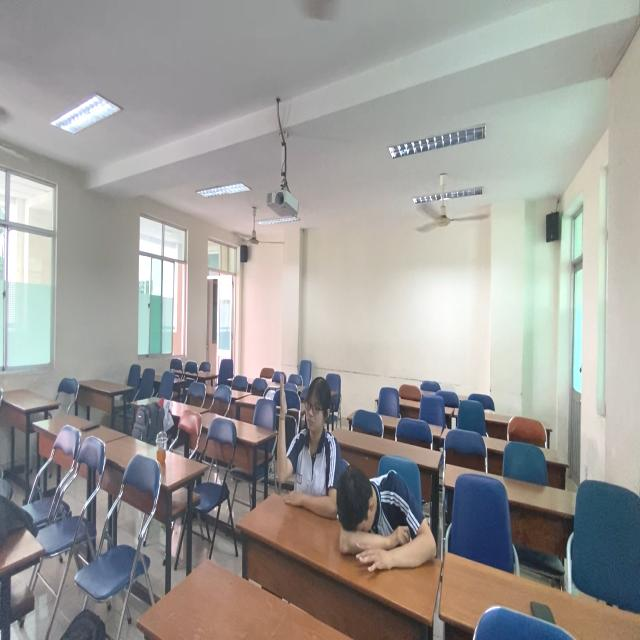raise_hand: (270, 363, 342, 517)
sleep: (325, 458, 439, 583)
